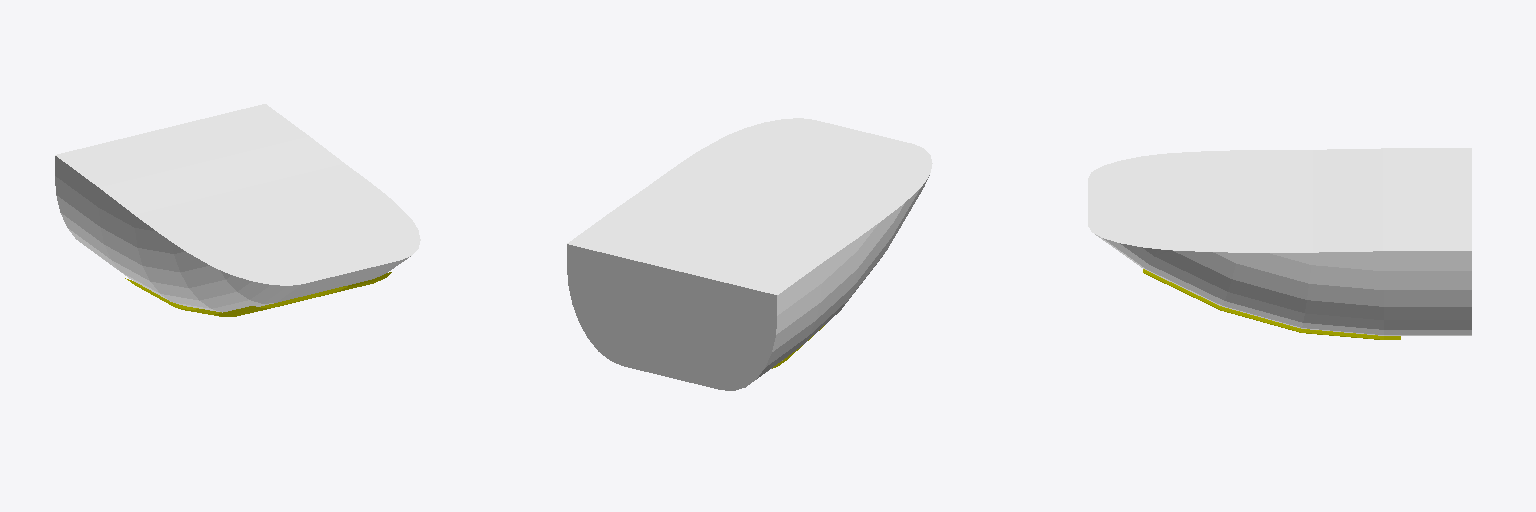
The model's file is RoadLight12.obj.
The picture shows the model from 3 angles: view 1: azimuth 30°, elevation 25°; view 2: azimuth 150°, elevation 25°; view 3: azimuth 270°, elevation 25°; orthographic projection.
Size of the model in its own units: 0.75 by 0.384 by 1.18.